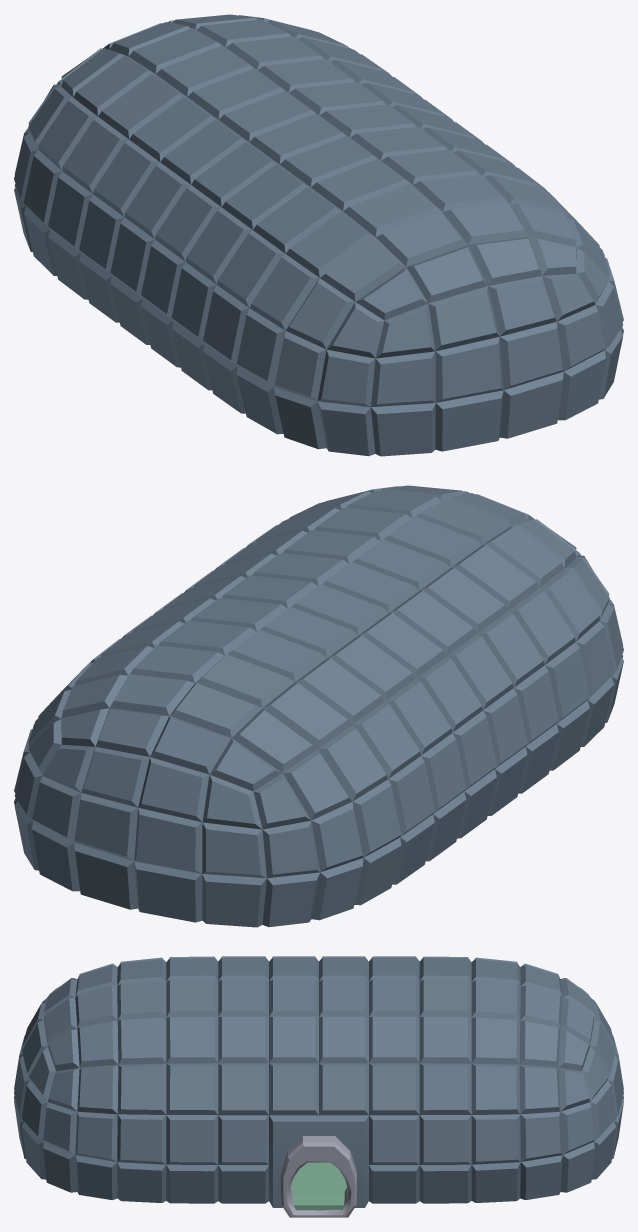
3 renders of one model, top to bottom at view 1: azimuth 30°, elevation 25°; view 2: azimuth 150°, elevation 25°; view 3: azimuth 270°, elevation 25°, orthographic. The views are drawn at different scales.
Visible parts, largest first — view 1: building_2_single_input.003; view 2: building_2_single_input.003; view 3: building_2_single_input.003.
Part boxes in pixels (box(x1,y1,x2,y2)): building_2_single_input.003: box(14, 14, 623, 456); building_2_single_input.003: box(14, 485, 623, 927); building_2_single_input.003: box(14, 956, 623, 1217).
Bounding box in the file's own units: 10.66 × 5.44 × 18.36.
Materials: 1 (1 with a texture image).
